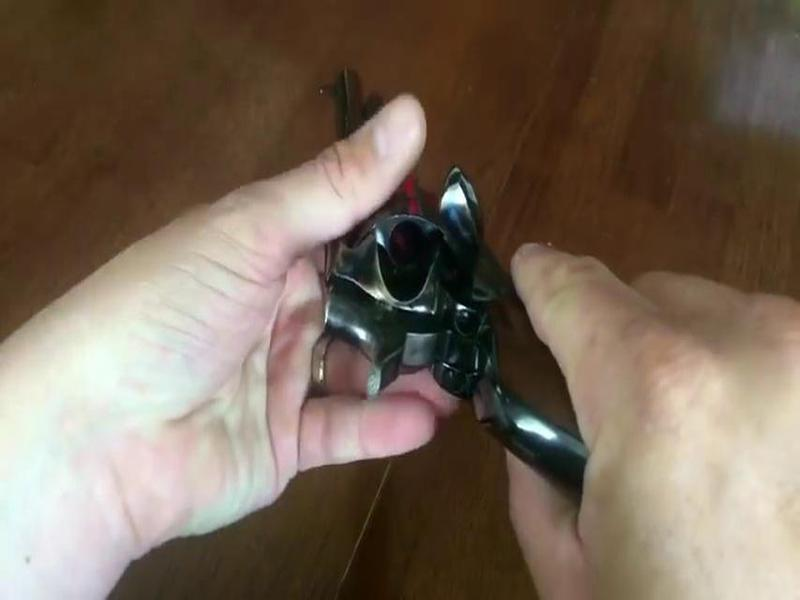Revolver: (307, 62, 575, 458)
